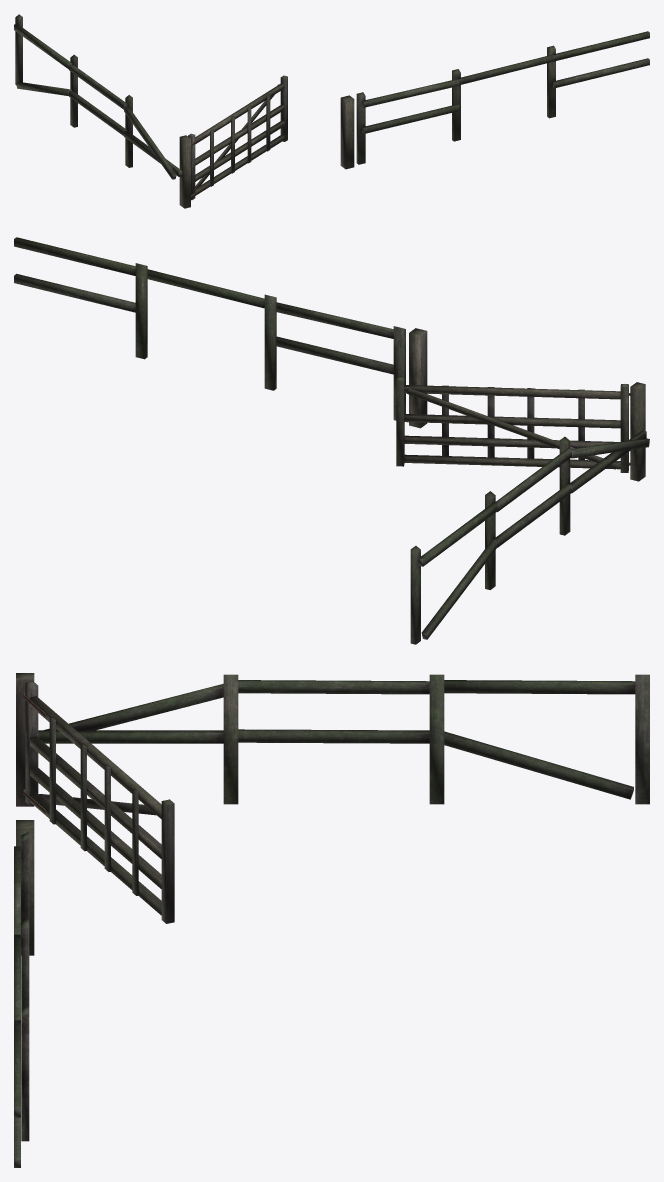
The model's file is vv_cerca_b.glb.
3 renders of one model, top to bottom at view 1: azimuth 30°, elevation 25°; view 2: azimuth 150°, elevation 25°; view 3: azimuth 270°, elevation 25°, orthographic. The views are drawn at different scales.
Parts seen in each view (by area): view 1: gate, fence5, fence6, gatepost, fence2, fence4, fence1, fence3; view 2: gate, fence6, fence5, fence1, gatepost, fence2, fence3, fence4; view 3: gate, fence2, fence1, fence4, gatepost, fence6, fence5, fence3.
Part boxes in pixels (x1,y1,x2,y2): gate: [188, 75, 287, 200]; fence5: [356, 79, 459, 164]; fence6: [547, 31, 649, 118]; gatepost: [179, 95, 354, 208]; fence2: [69, 54, 127, 135]; fence4: [124, 95, 182, 179]; fence1: [14, 14, 72, 95]; fence3: [452, 54, 554, 141]; gate: [396, 377, 630, 472]; fence6: [14, 237, 147, 359]; fence5: [276, 302, 405, 420]; fence1: [410, 503, 497, 644]; gatepost: [409, 328, 645, 481]; fence2: [485, 448, 571, 589]; fence3: [147, 269, 276, 390]; fence4: [559, 430, 649, 535]; gate: [23, 681, 174, 923]; fence2: [238, 674, 444, 804]; fence1: [444, 674, 649, 804]; fence4: [38, 674, 238, 804]; gatepost: [16, 673, 34, 955]; fence6: [14, 1005, 29, 1167]; fence5: [14, 831, 29, 934]; fence3: [14, 918, 29, 1020].
Size of the model in its own units: 3470 by 488 by 2163.
Materials: 2 (2 with a texture image).
